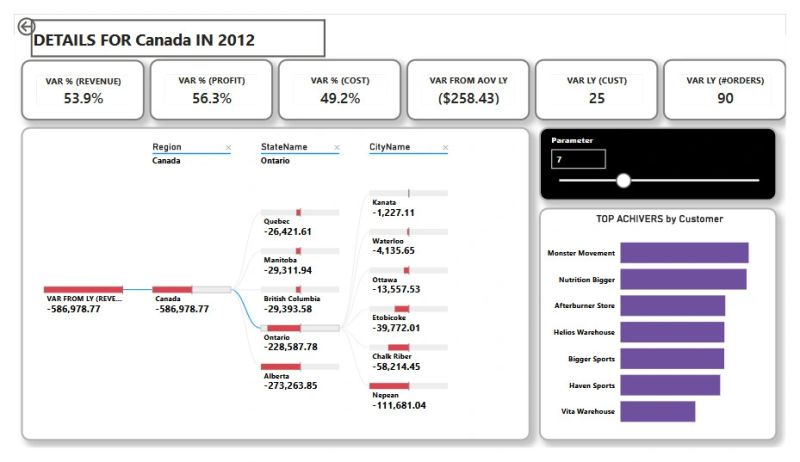

The page's visual inventory and layout, read from the dashboard file:
{"tool":"powerbi","page":{"name":"LOCATION","canvas":[1280,720],"ordinal":5},"visuals":[{"type":"cardVisual","fields":{"Data":["CALCULATIONS.VAR % (REVENUE)"]},"box":[11.1,74.6,204.8,101.6],"z":0},{"type":"cardVisual","fields":{"Data":["CALCULATIONS.VAR % (PROFIT)"]},"box":[224.4,74.2,205,102],"z":1000},{"type":"cardVisual","fields":{"Data":["CALCULATIONS.VAR % (COST)"]},"box":[437.2,74.2,205,102],"z":2000},{"type":"cardVisual","fields":{"Data":["CALCULATIONS.VAR FROM AOV LY"]},"box":[650,74.2,205,102],"z":3000},{"type":"cardVisual","fields":{"Data":["CALCULATIONS.VAR LY (CUST)"]},"box":[862.8,74.2,205,102],"z":4000},{"type":"cardVisual","fields":{"Data":["CALCULATIONS.VAR FROM LY (#ORDERS)"]},"box":[1075.7,74.2,205,102],"z":5000},{"type":"decompositionTreeVisual","fields":{"Analyze":["CALCULATIONS.VAR FROM LY (REVENUE)"],"ExplainBy":["Customer.Region","Customer.StateName","Customer.CityName"]},"box":[11.1,187.3,844.4,520.6],"z":6000},{"type":"actionButton","box":[0,0,100,40],"z":7000},{"type":"slicer","fields":{"Values":["Parameter.Parameter"]},"box":[869.8,187.3,395.2,122.2],"z":8000},{"type":"clusteredBarChart","fields":{"Category":["Customer.Customer"],"Y":["CALCULATIONS.TOP ACHIVERS"]},"box":[869.8,320.6,395.2,387.3],"z":9000},{"type":"actionButton","box":[27,7.9,488.9,63.5],"z":10000}]}

Visuals, with their boxes in screenshot pixels (x1, y1, x2, y2), scaled from the page's 1280x720 canvas onto the 800x462 screenshot:
cardVisual - CALCULATIONS.VAR % (REVENUE): locate(7, 48, 135, 113)
cardVisual - CALCULATIONS.VAR % (PROFIT): locate(140, 48, 268, 113)
cardVisual - CALCULATIONS.VAR % (COST): locate(273, 48, 401, 113)
cardVisual - CALCULATIONS.VAR FROM AOV LY: locate(406, 48, 534, 113)
cardVisual - CALCULATIONS.VAR LY (CUST): locate(539, 48, 667, 113)
cardVisual - CALCULATIONS.VAR FROM LY (#ORDERS): locate(672, 48, 799, 113)
decompositionTreeVisual - CALCULATIONS.VAR FROM LY (REVENUE) x Customer.Region: locate(7, 120, 535, 454)
actionButton: locate(0, 0, 62, 26)
slicer - Parameter.Parameter: locate(544, 120, 791, 199)
clusteredBarChart - Customer.Customer x CALCULATIONS.TOP ACHIVERS: locate(544, 206, 791, 454)
actionButton: locate(17, 5, 322, 46)
